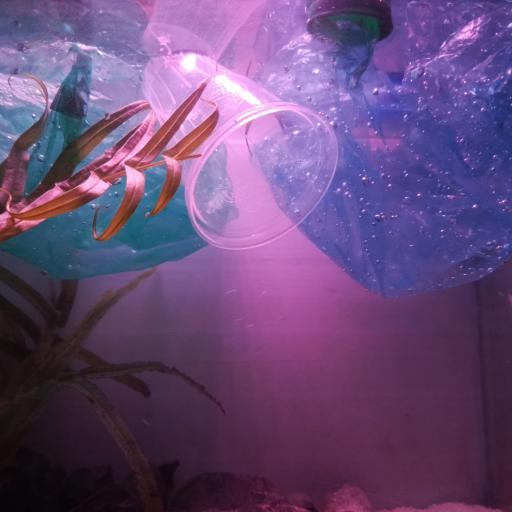bottle_cap: (308, 1, 394, 45)
plastic_bag: (257, 18, 512, 299), (4, 73, 236, 282)
plastic_cup: (144, 53, 338, 251)
